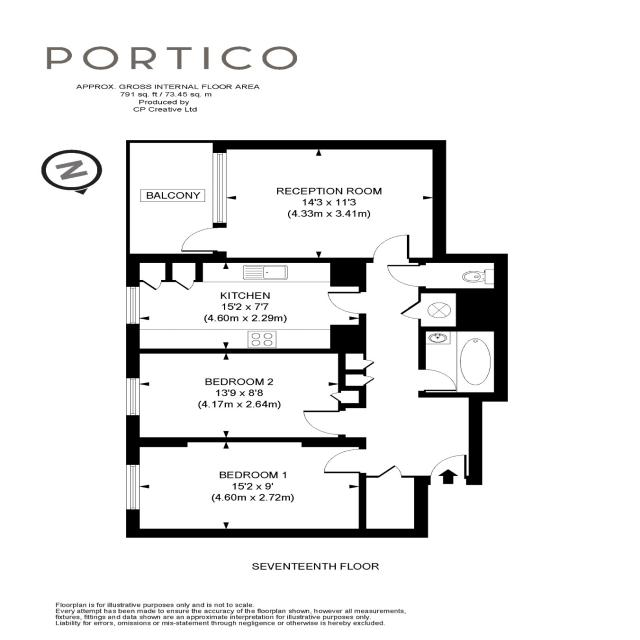DOOR: (180, 226, 227, 253), (428, 454, 467, 485), (322, 448, 366, 474), (302, 410, 346, 436), (372, 234, 410, 263), (418, 369, 458, 392), (327, 291, 367, 314), (386, 264, 426, 287)
ROOM: (180, 139, 447, 263), (126, 253, 367, 354), (126, 437, 366, 538), (125, 348, 366, 448)
WINDOW: (212, 152, 227, 224), (125, 464, 141, 511), (125, 377, 140, 416), (126, 286, 140, 324)
